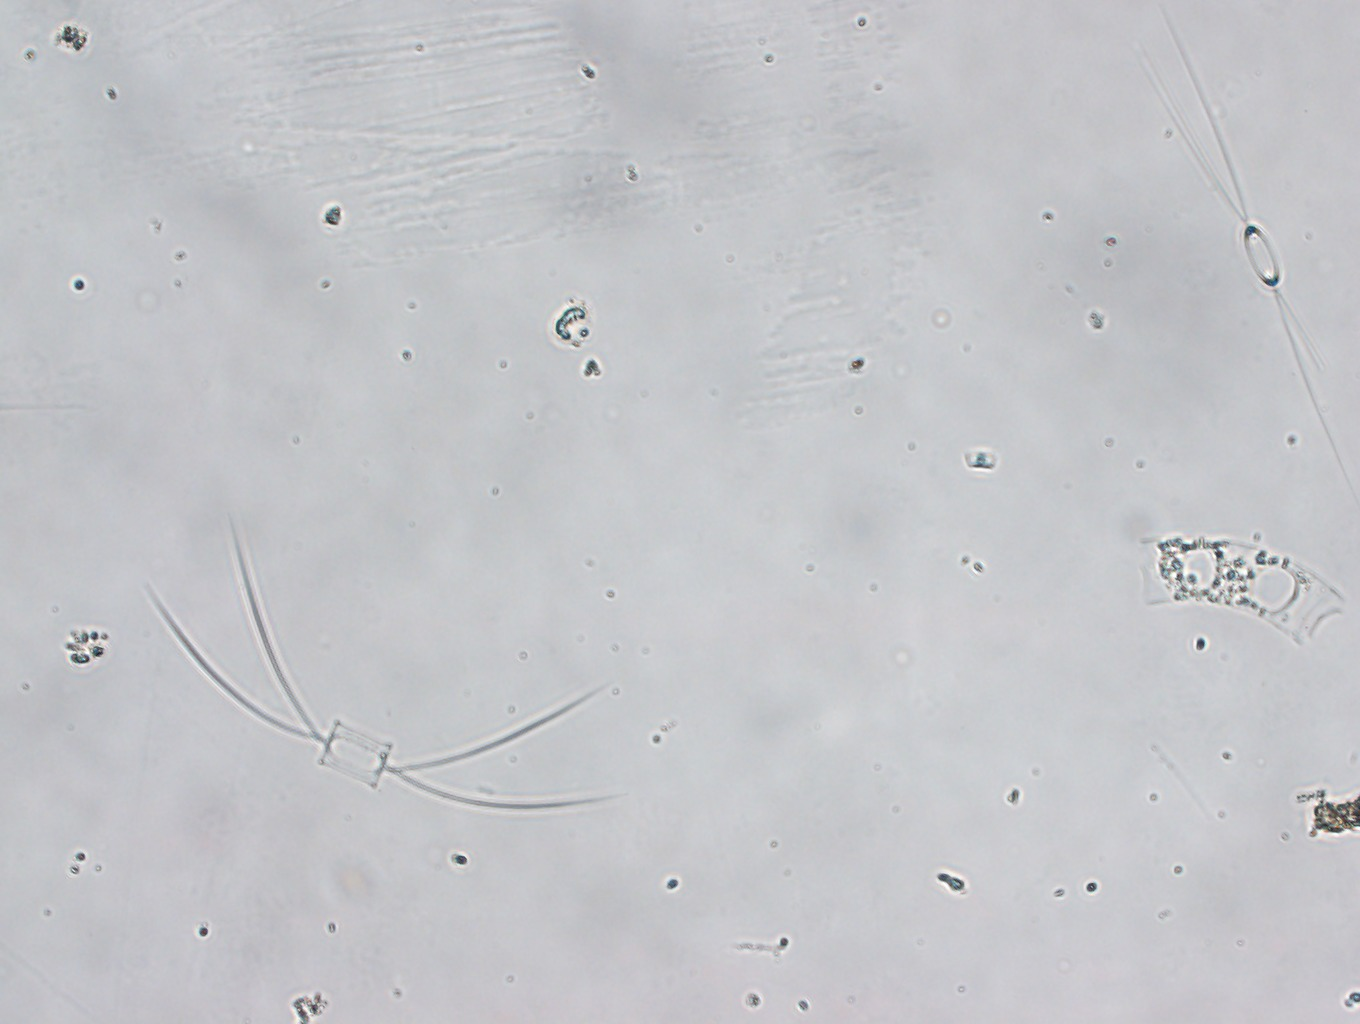chaetoceros: (140, 513, 628, 809), (1139, 1, 1358, 506)
eucampia: (1137, 534, 1347, 648)
